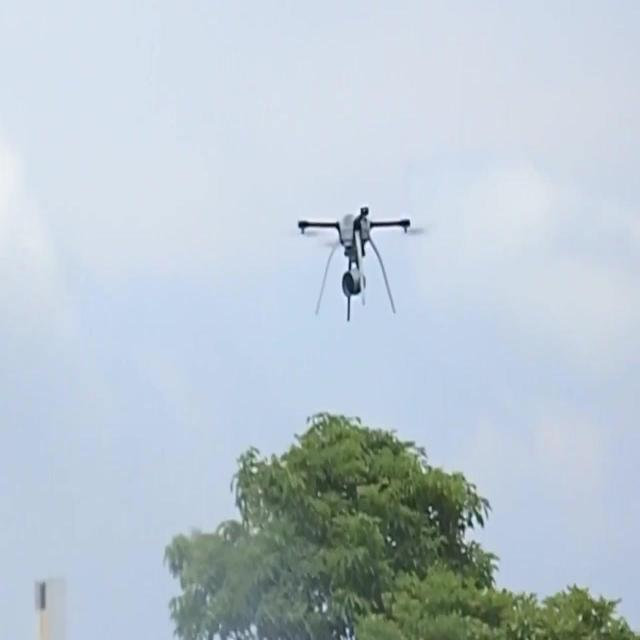UAV: (298, 207, 422, 322)
